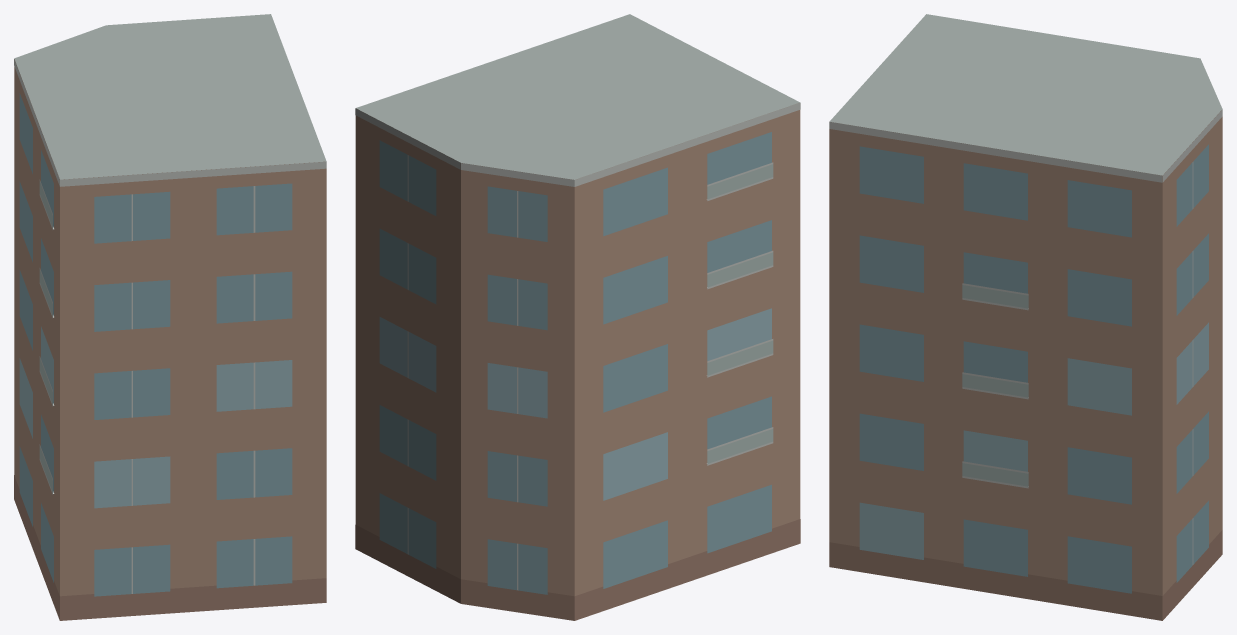
The model's file is survey-upis-32937631.glb.
3 renders of one model, left to right at view 1: azimuth 30°, elevation 25°; view 2: azimuth 150°, elevation 25°; view 3: azimuth 270°, elevation 25°, orthographic.
Parts seen in each view (by area): view 1: survey-upis-32937631.tmp; view 2: survey-upis-32937631.tmp; view 3: survey-upis-32937631.tmp.
Boxes of the visible parts, bbox=[...] form: survey-upis-32937631.tmp: bbox=[14, 14, 326, 620]; survey-upis-32937631.tmp: bbox=[355, 14, 800, 620]; survey-upis-32937631.tmp: bbox=[829, 14, 1222, 620].
Bounding box in the file's own units: 11.76 × 15.1 × 12.1.
